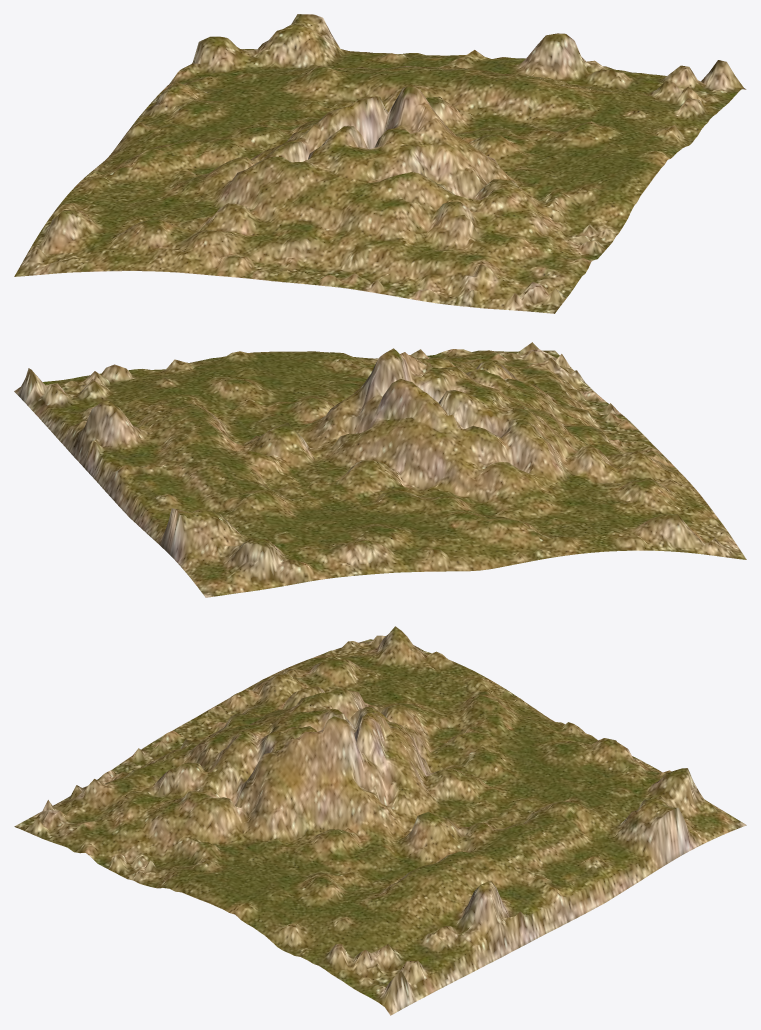
The model's file is mtn pass.obj.
3 views of the same model, one above another, from view 1: azimuth 30°, elevation 25°; view 2: azimuth 150°, elevation 25°; view 3: azimuth 270°, elevation 25° (orthographic). The views are drawn at different scales.
Visible parts, largest first — view 1: rugged_Terrain_4; view 2: rugged_Terrain_4; view 3: rugged_Terrain_4.
Boxes of the visible parts, x1,y1,x2,y2 form: rugged_Terrain_4: (14, 14, 746, 313); rugged_Terrain_4: (14, 342, 746, 597); rugged_Terrain_4: (14, 626, 746, 1015).
Size of the model in its own units: 33.84 by 4.82 by 27.91.
